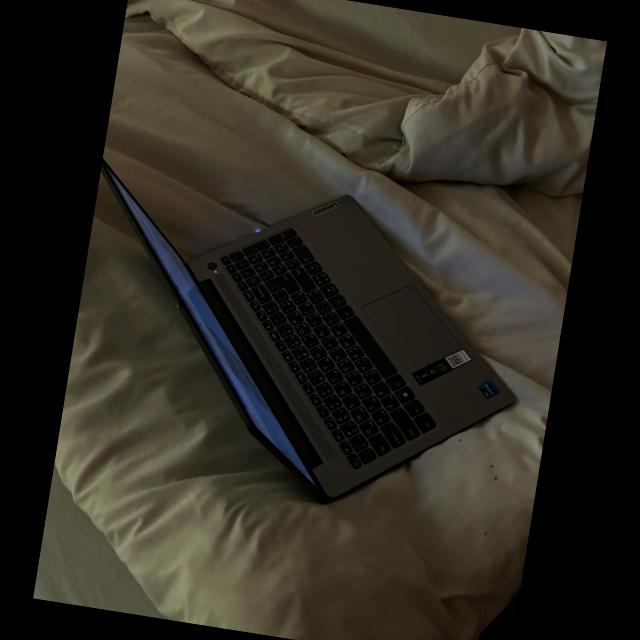laptop: (102, 162, 515, 500), (356, 243, 357, 244)
